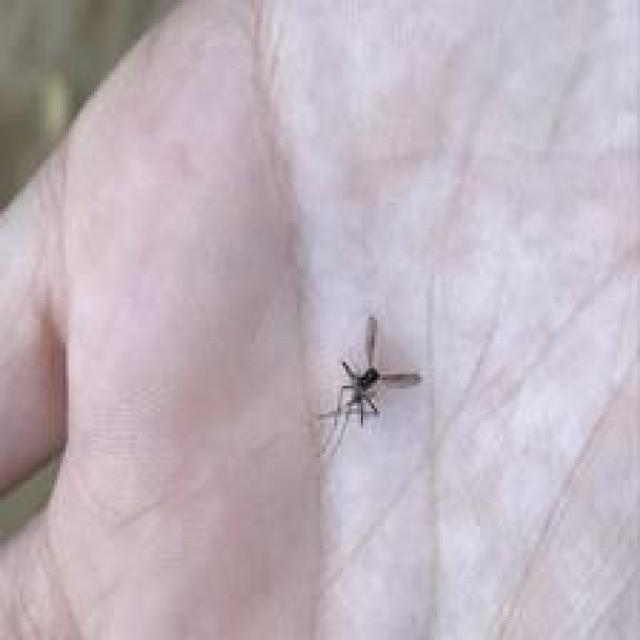Aedes albopictus: (314, 314, 423, 457)
